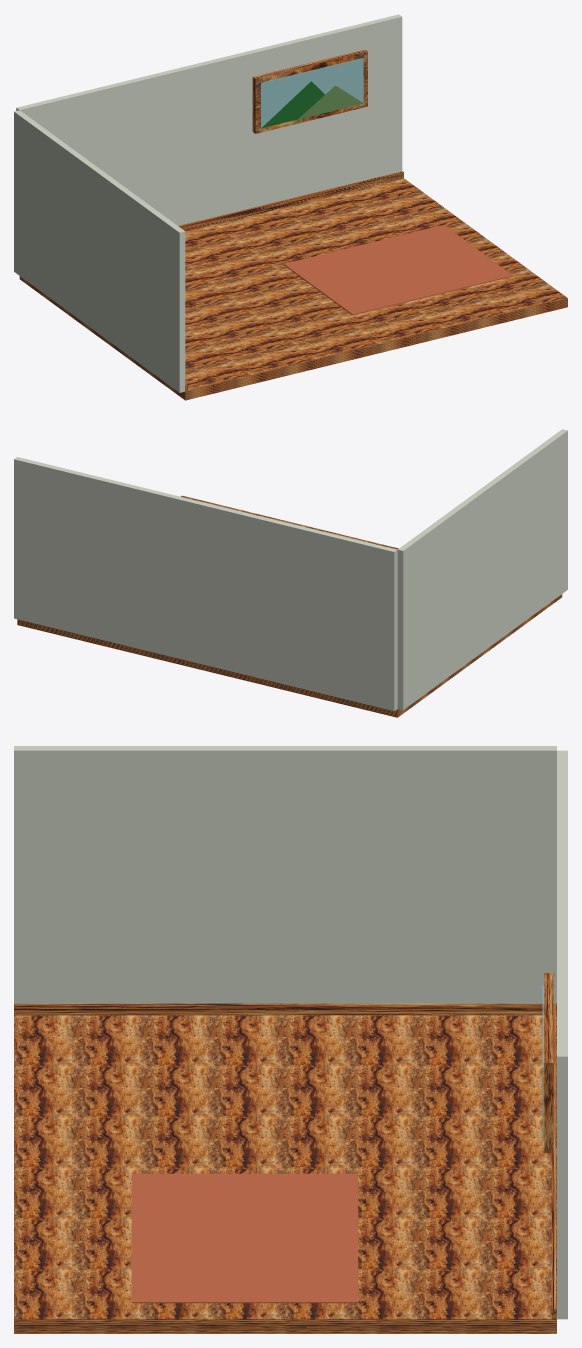
The model's file is room.obj.
3 views of the same model, one above another, from view 1: azimuth 30°, elevation 25°; view 2: azimuth 150°, elevation 25°; view 3: azimuth 270°, elevation 25° (orthographic). The views are drawn at different scales.
Visible parts, largest first — view 1: room; view 2: room; view 3: room.
Boxes of the visible parts, bbox=[...] form: room: bbox=[14, 14, 567, 400]; room: bbox=[14, 429, 567, 717]; room: bbox=[14, 746, 567, 1333].
Size of the model in its own units: 8.12 by 3.38 by 6.12.
